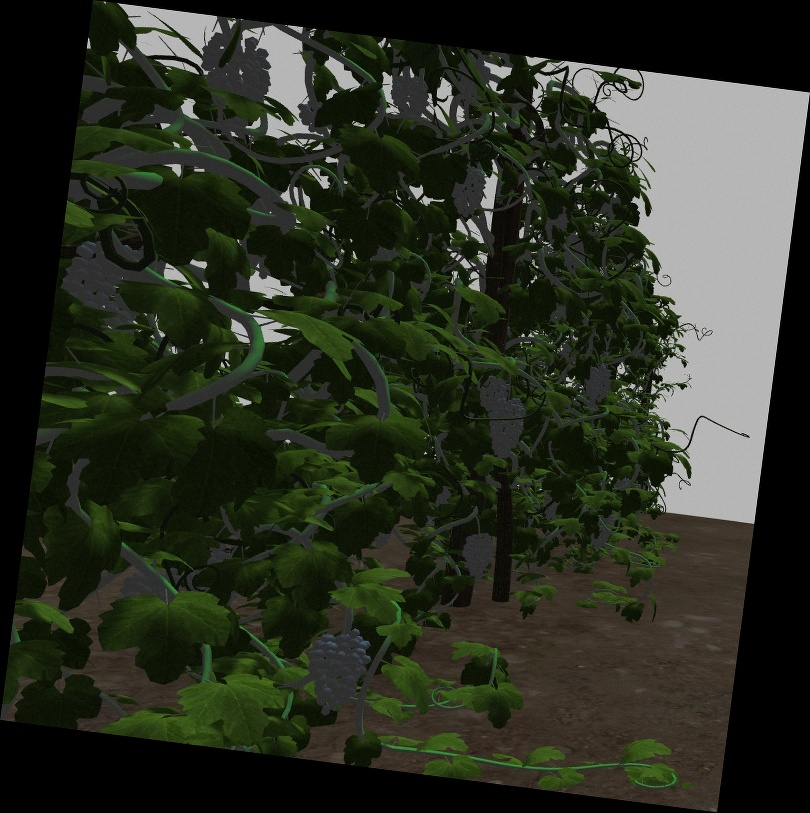grape: (62, 241, 146, 324), (198, 32, 273, 110), (306, 627, 368, 716), (488, 400, 525, 458), (452, 165, 487, 218), (461, 531, 496, 581), (390, 74, 430, 116), (478, 375, 510, 414), (584, 364, 613, 403), (590, 511, 614, 553), (562, 235, 586, 269)
